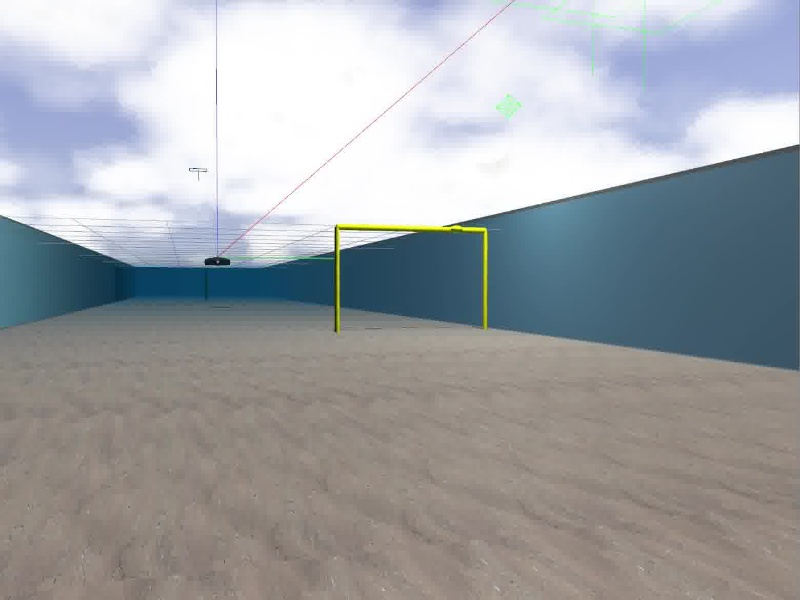gate: (332, 223, 489, 337)
